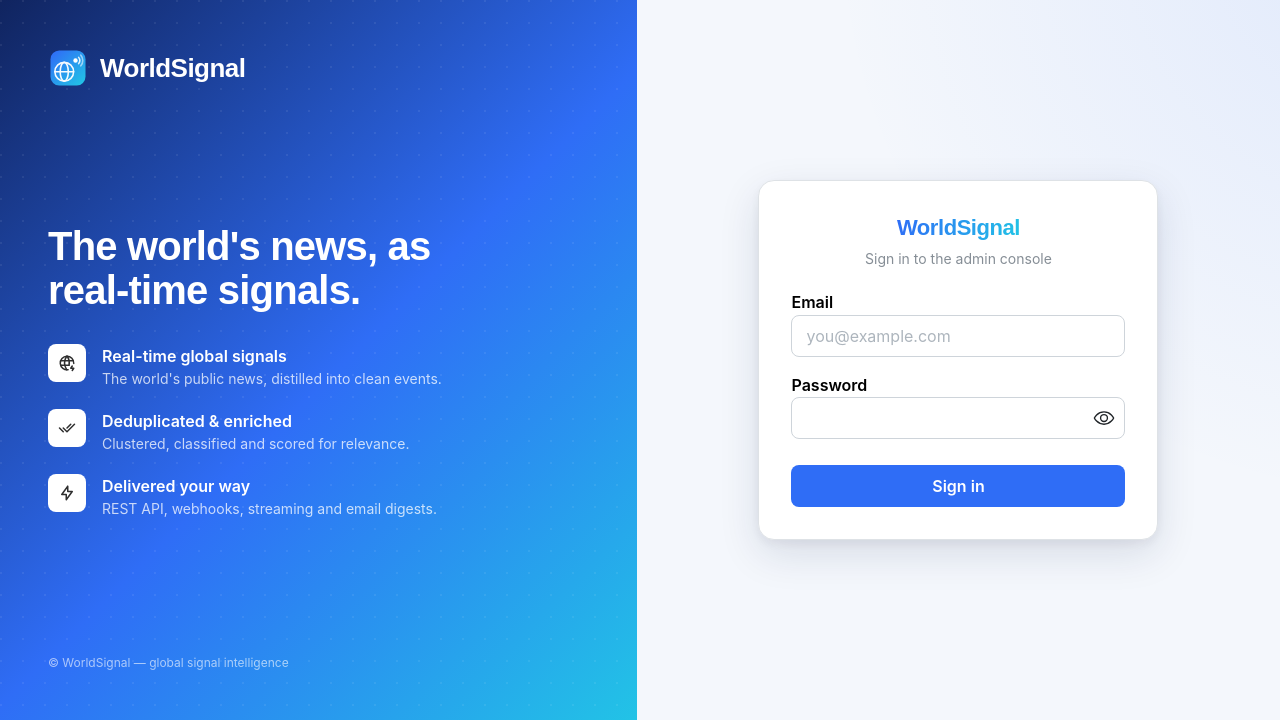
Test case: Login › validates inputs
Click the button "Sign in": (958, 486) [792,465,1126,507]
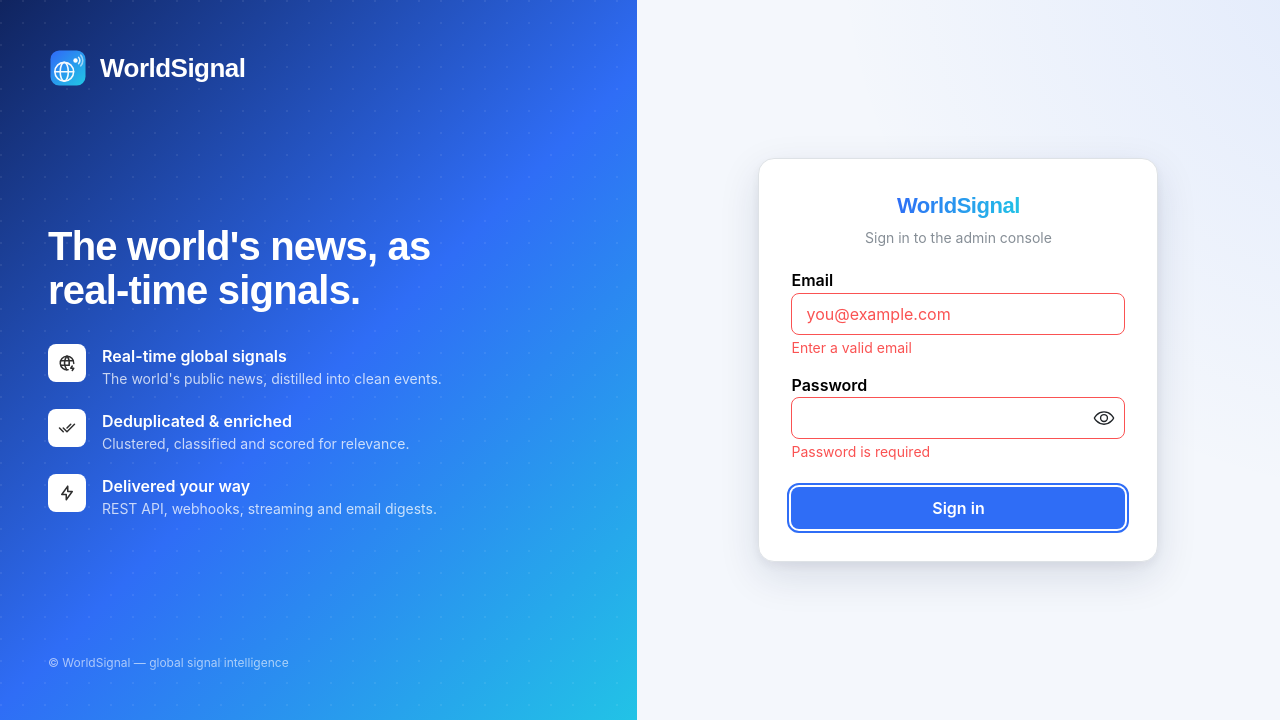
Now the text "Enter a valid email" is shown, box [792,339,912,356]
